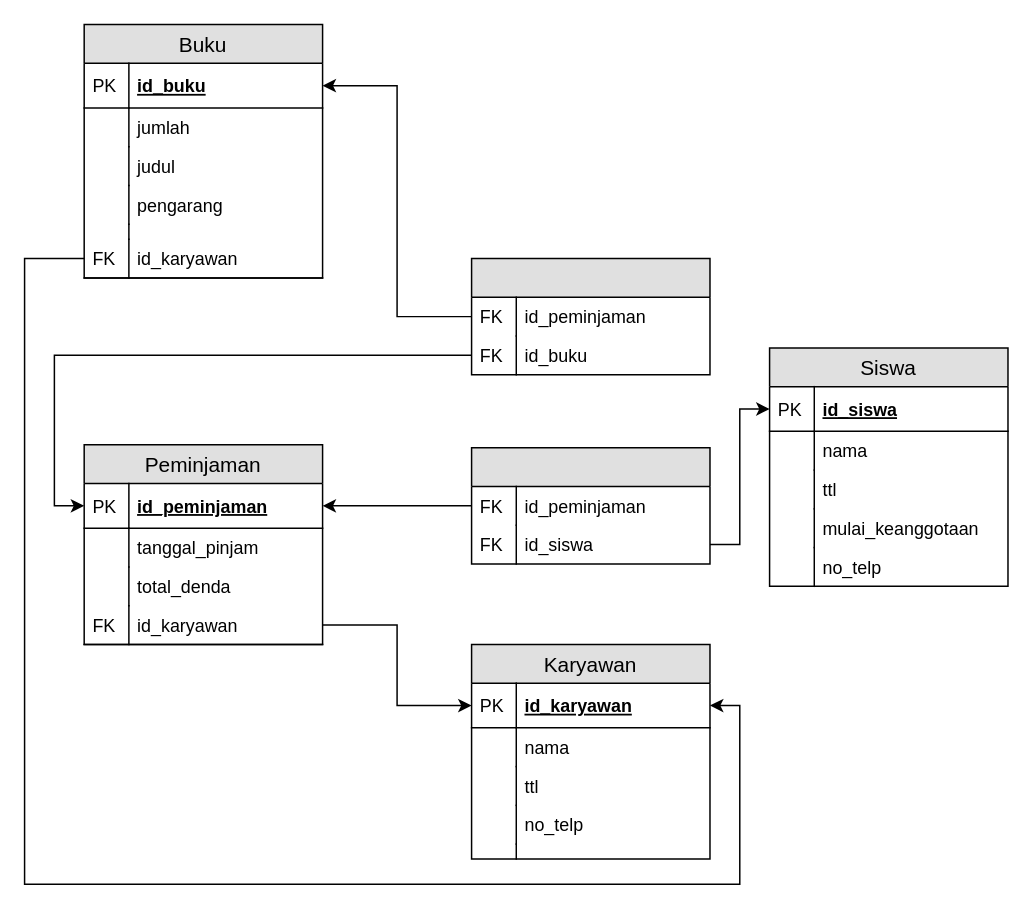
Image size: 1033x909. Some labels were removed from this diagram. The box of each missing label's shape, as (x1, y1, x2, y2) in pixels:
detail_buku_pinjam: (470, 257, 710, 375)
detail_pinjam_siswa: (470, 446, 710, 564)
